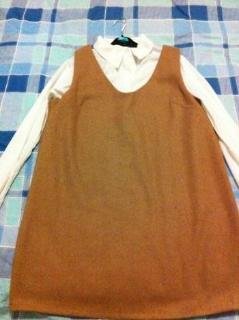long sleeve top: (0, 35, 239, 213)
vest: (9, 44, 239, 319)
